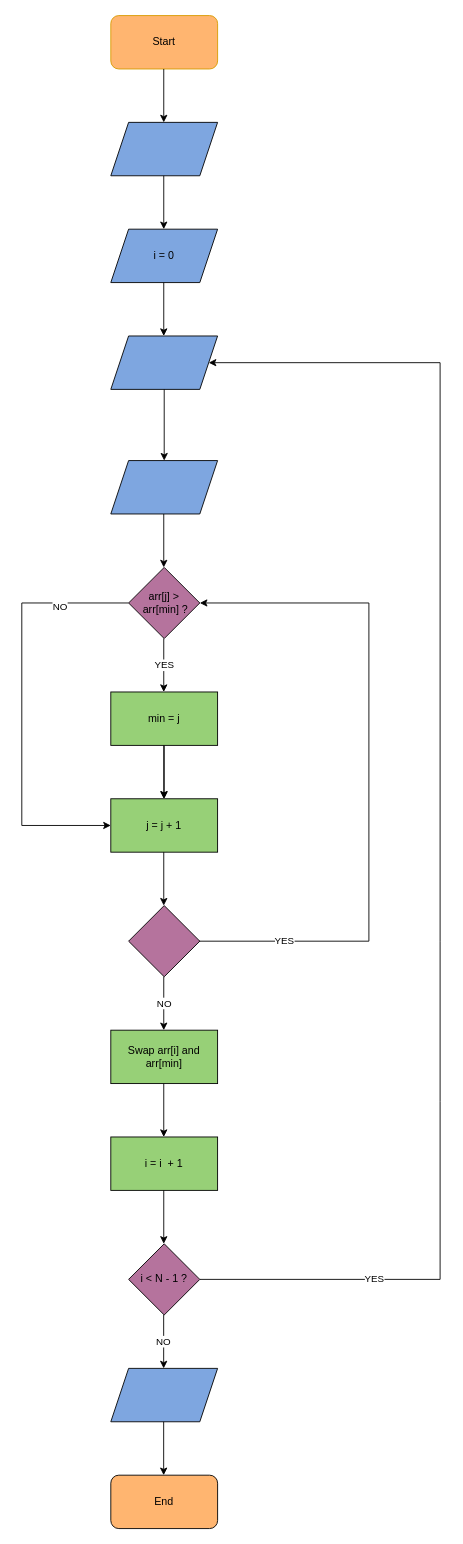
Image size: 463x1544. Some labels were removed from this diagram. The shapes that lost their labels are listed below. From the top down, each one's centre as x and y in pixels, then its label:
At pixel 164 148: "Array arr of length N".
At pixel 164 362: "min = i".
At pixel 164 487: "j = i + 1".
At pixel 164 941: "j < N ?".
At pixel 164 1394: "Output arr".
